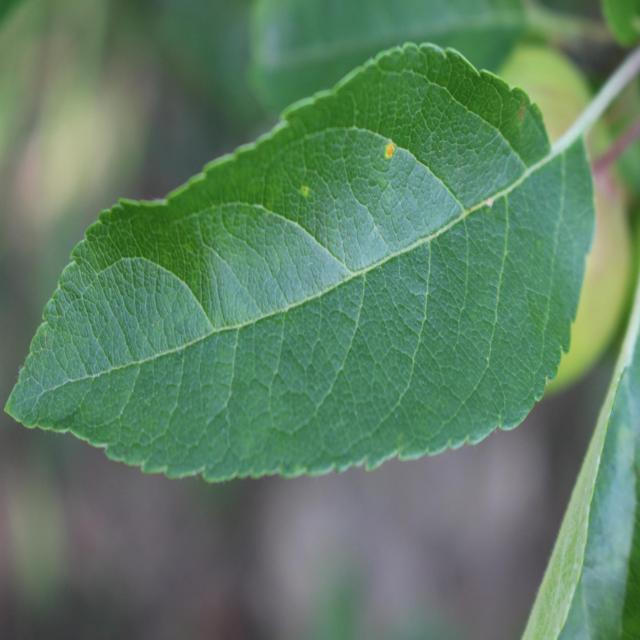Rust: (360, 135, 410, 176)
